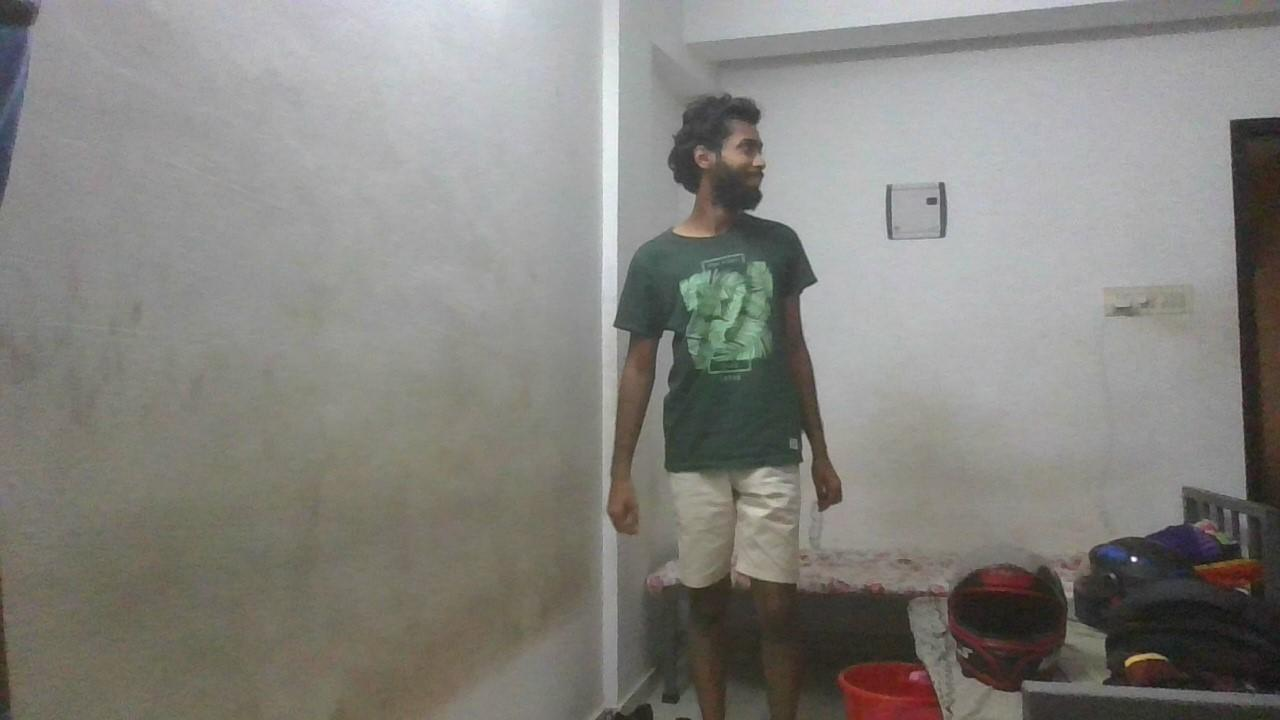nohelmet: (666, 92, 769, 217)
